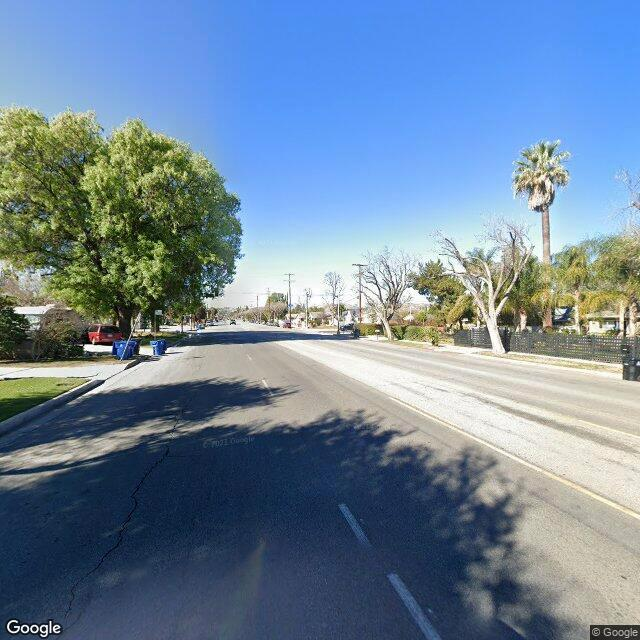pothole: (56, 422, 177, 620)
